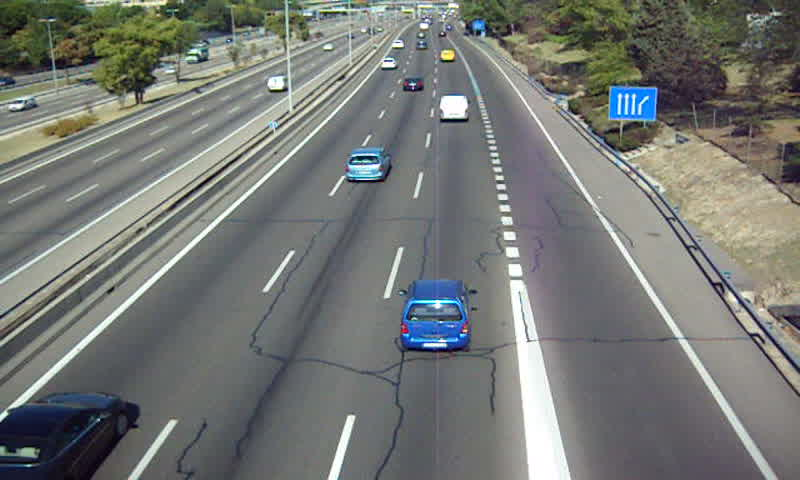car: (399, 280, 471, 350), (344, 146, 390, 180), (401, 76, 424, 92), (379, 58, 397, 73)
van: (438, 95, 469, 121)
